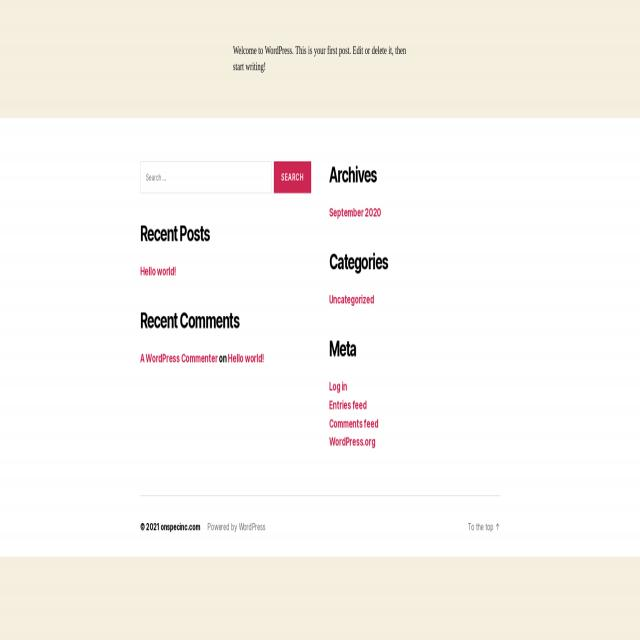button: (274, 162, 311, 193)
field: (140, 162, 272, 193)
